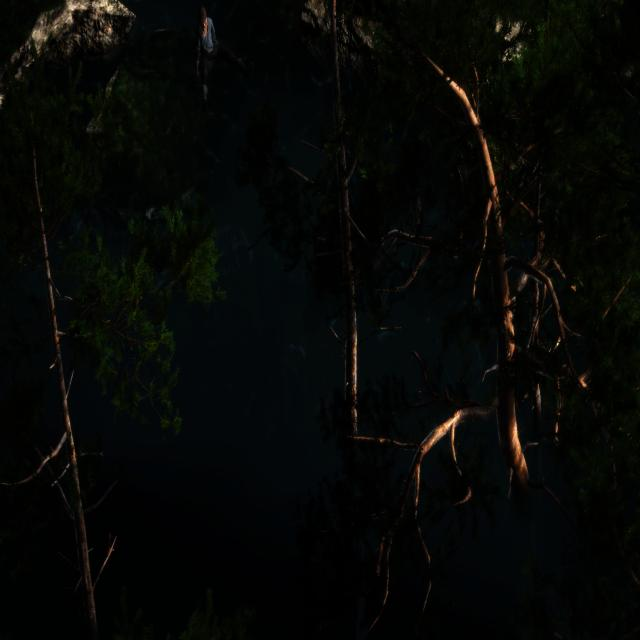Human: (190, 2, 259, 108)
